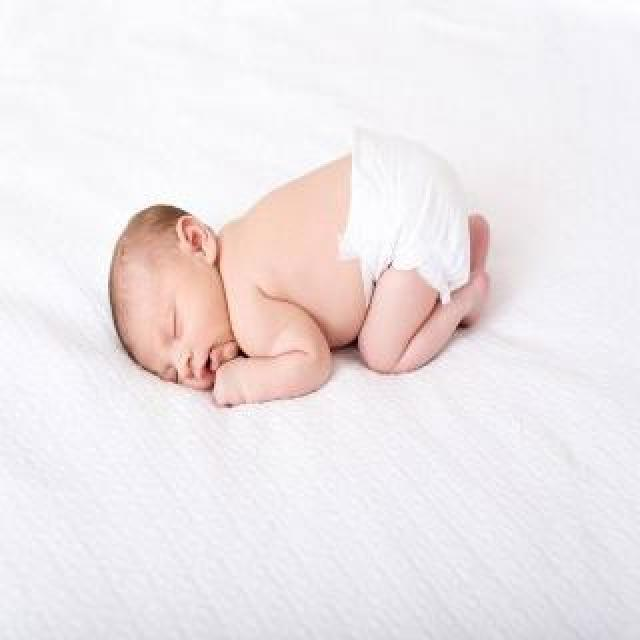baby: (106, 125, 494, 413)
